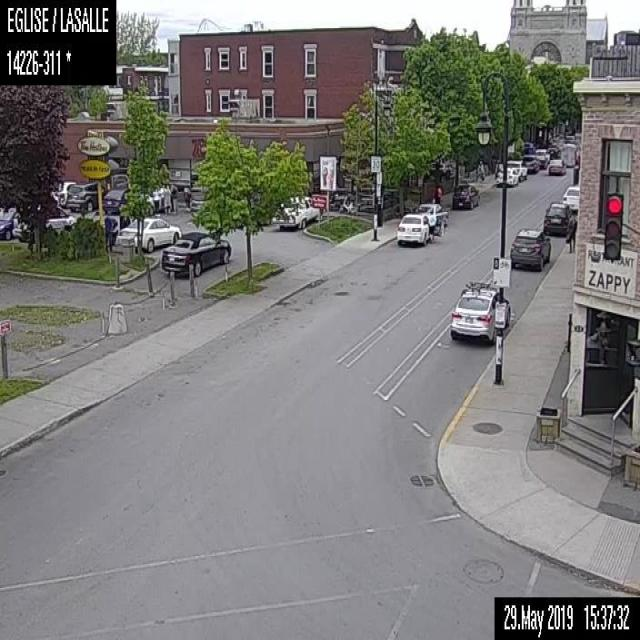pedestrian: (102, 208, 114, 256), (566, 209, 576, 252), (161, 180, 169, 213), (152, 184, 160, 215), (170, 181, 178, 212), (431, 185, 442, 204), (476, 160, 484, 186)
vehicle: (449, 279, 511, 344), (158, 230, 231, 276), (14, 204, 74, 243), (116, 214, 180, 250), (272, 192, 321, 232), (508, 229, 550, 272), (65, 181, 106, 212), (396, 213, 431, 246), (541, 199, 569, 235), (416, 202, 448, 233), (449, 181, 481, 211), (49, 180, 75, 208), (101, 187, 128, 212), (493, 164, 518, 188), (543, 155, 567, 176), (0, 205, 15, 238), (563, 186, 578, 213), (521, 153, 541, 172), (534, 146, 549, 165), (546, 146, 560, 158)
